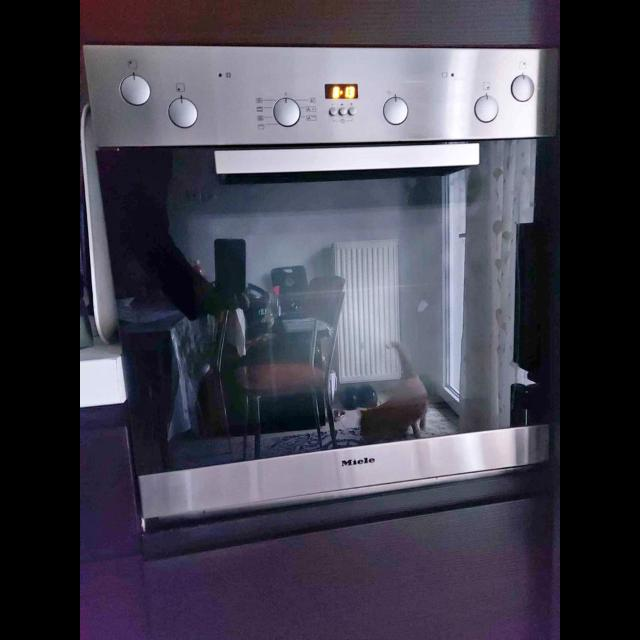Oven: (82, 43, 540, 509)
